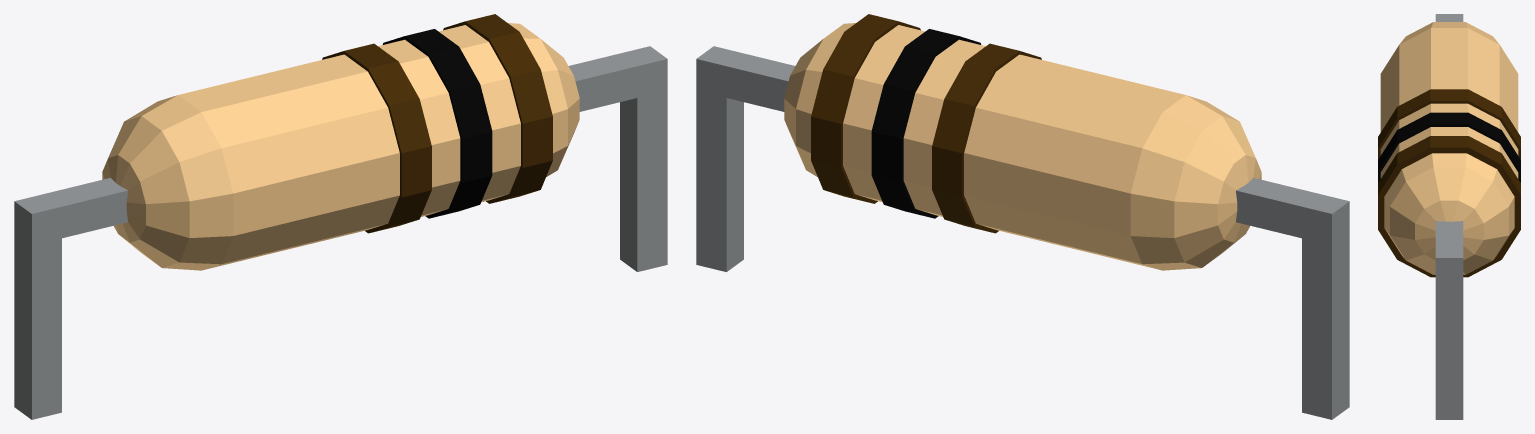
File: resistor.obj
3 renders of one model, left to right at view 1: azimuth 30°, elevation 25°; view 2: azimuth 150°, elevation 25°; view 3: azimuth 270°, elevation 25°, orthographic. The views are drawn at different scales.
Visible parts, largest first — view 1: body, mesh, sphere, cylinder; view 2: body, mesh, sphere, cylinder; view 3: sphere, body, cylinder, mesh.
Part boxes in pixels (x1,y1,x2,y2): body: (178,25,520,269); mesh: (14,46,667,419); sphere: (102,23,579,270); cylinder: (322,14,552,233); body: (843,25,1185,269); mesh: (696,46,1349,419); sphere: (784,23,1261,270); cylinder: (811,14,1041,233); sphere: (1384,22,1514,274); body: (1380,28,1518,178); cylinder: (1378,89,1520,277); mesh: (1435,14,1463,419).
Size of the model in its own units: 0.6562 by 0.2688 by 0.1625.
Materials: 1 (1 with a texture image).
